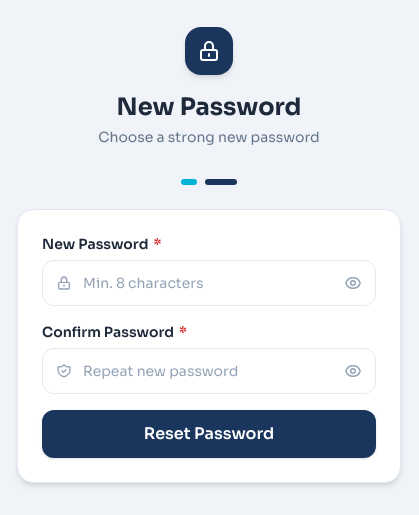
Test case: ResetPasswordView › validates new password length and mismatch
This screenshot has width=419, height=515.
Type "short" into the password field with placeholder "Min. 8 characters" at (209,283), box [42,260,376,306]
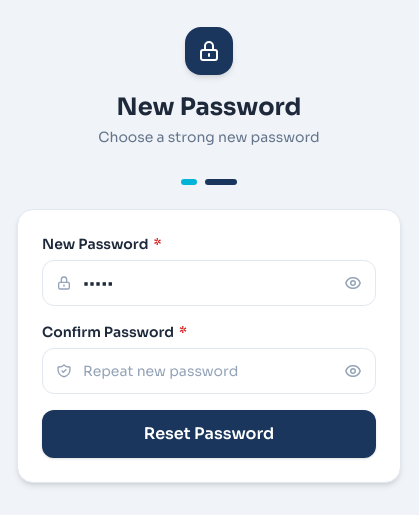
Type "short" into the password field with placeholder "Repeat new password" at (209,371), box [42,348,376,394]
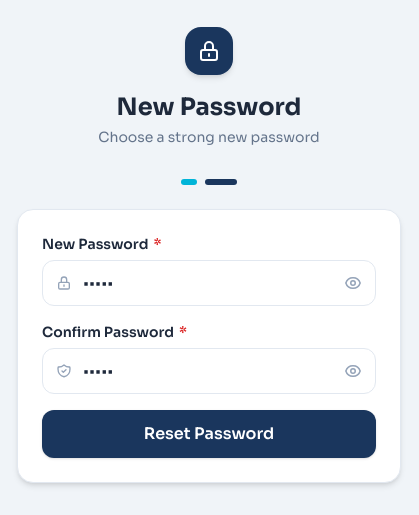
Submit the form, box [42,234,376,458]
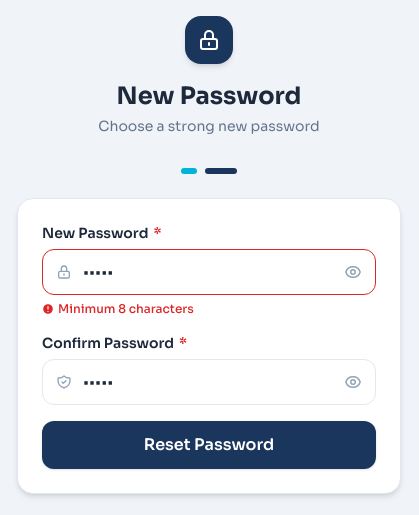
Check: the text "Minimum 8 characters" is shown, box [42,301,194,316]
Type "longenough" into the 1st password field at (209,272), box [42,249,376,295]
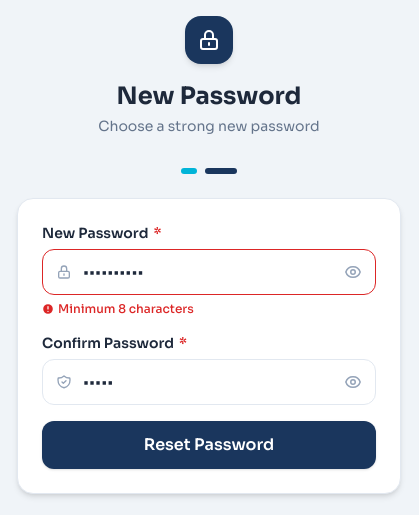
Type "different" into the password field below "Confirm Password" at (209,382), box [42,359,376,405]
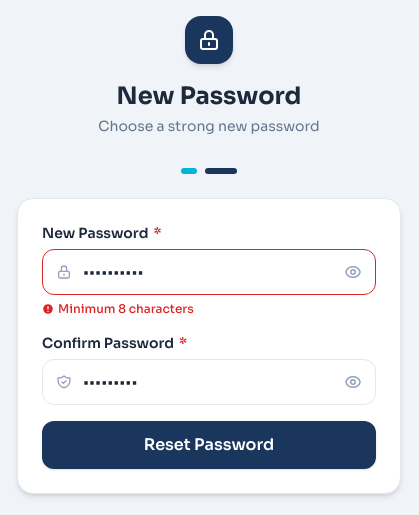
Submit the form, box [42,223,376,469]
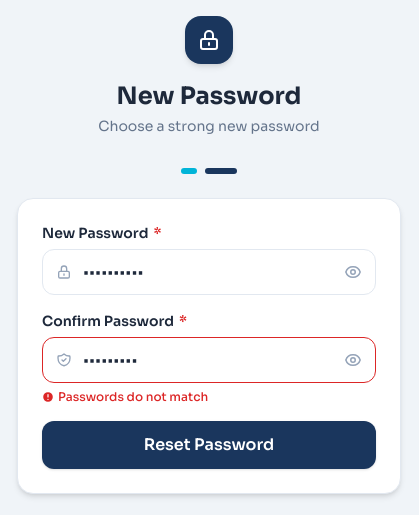
Check: the text "Passwords do not match" is shown, box [42,389,208,404]
